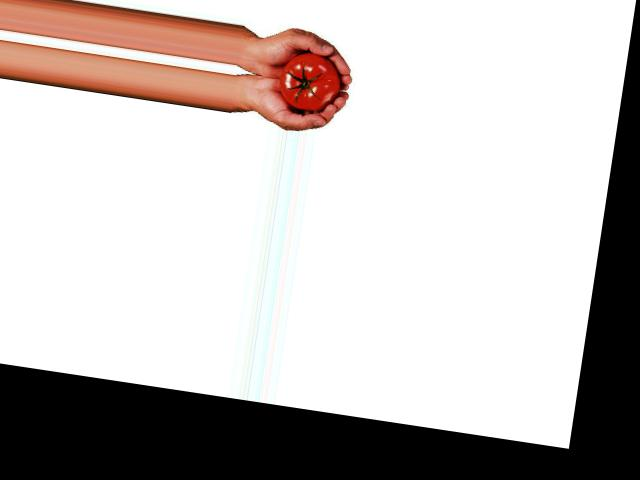tomato: (276, 48, 343, 114)
